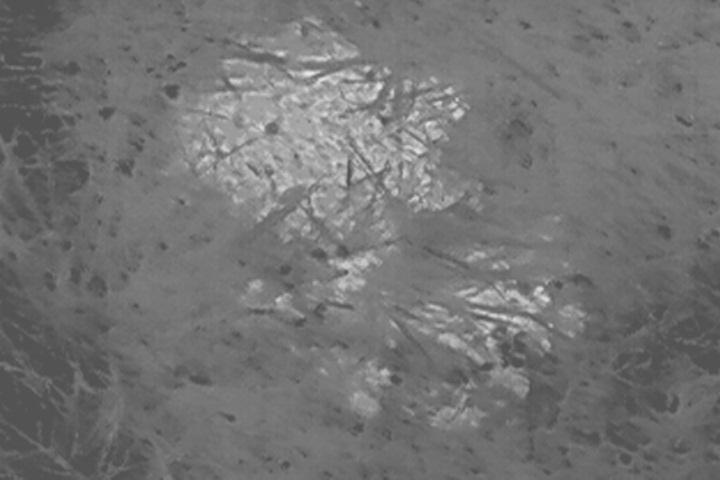landmine: (161, 13, 491, 238)
